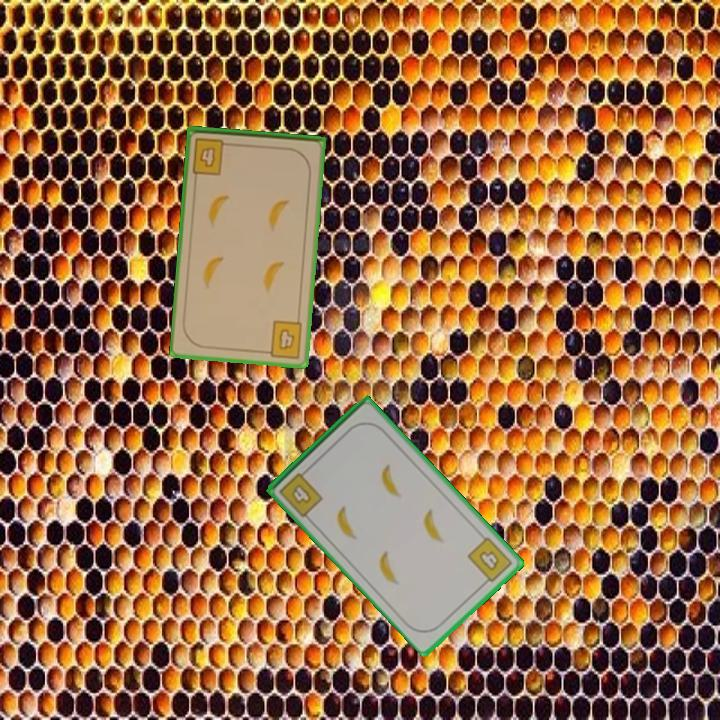4b: (464, 533, 515, 589), (276, 465, 326, 520), (188, 134, 235, 177), (260, 317, 305, 361)
